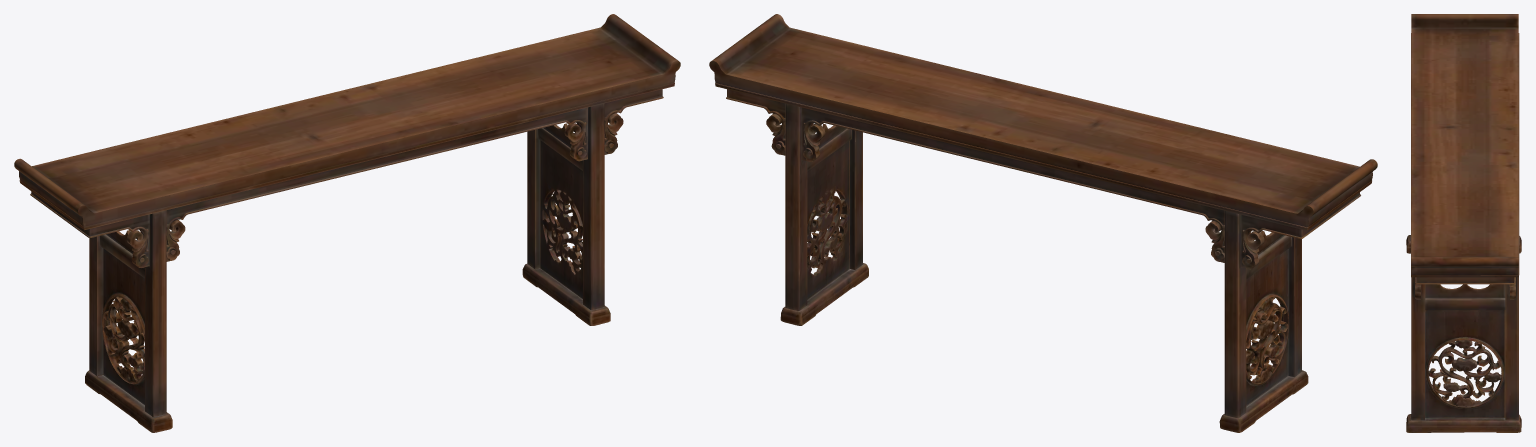
Rendered from chinese_console_table.glb.
The picture shows the model from 3 angles, left to right: view 1: azimuth 30°, elevation 25°; view 2: azimuth 150°, elevation 25°; view 3: azimuth 270°, elevation 25°; orthographic projection. The views are drawn at different scales.
Visible parts, largest first — view 1: chinese_console_table; view 2: chinese_console_table; view 3: chinese_console_table.
Boxes of the visible parts, box(x1,y1,x2,y2) form: chinese_console_table: box(14, 14, 680, 432); chinese_console_table: box(709, 14, 1377, 432); chinese_console_table: box(1406, 14, 1521, 432).
Bounding box in the file's own units: 1.72 × 0.6607 × 0.3388.
1 material, 1 textured.
